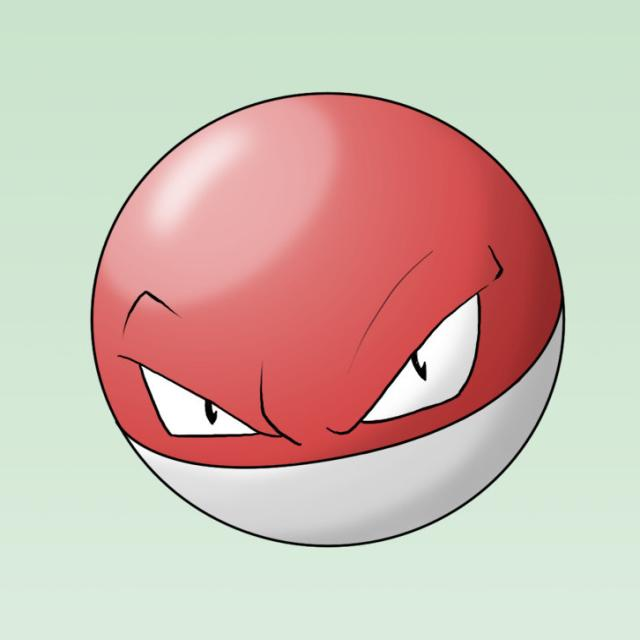Voltorb: (81, 86, 572, 546)
